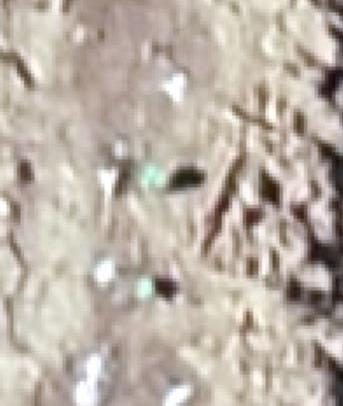cotton: (139, 167, 166, 189), (137, 273, 154, 296)
